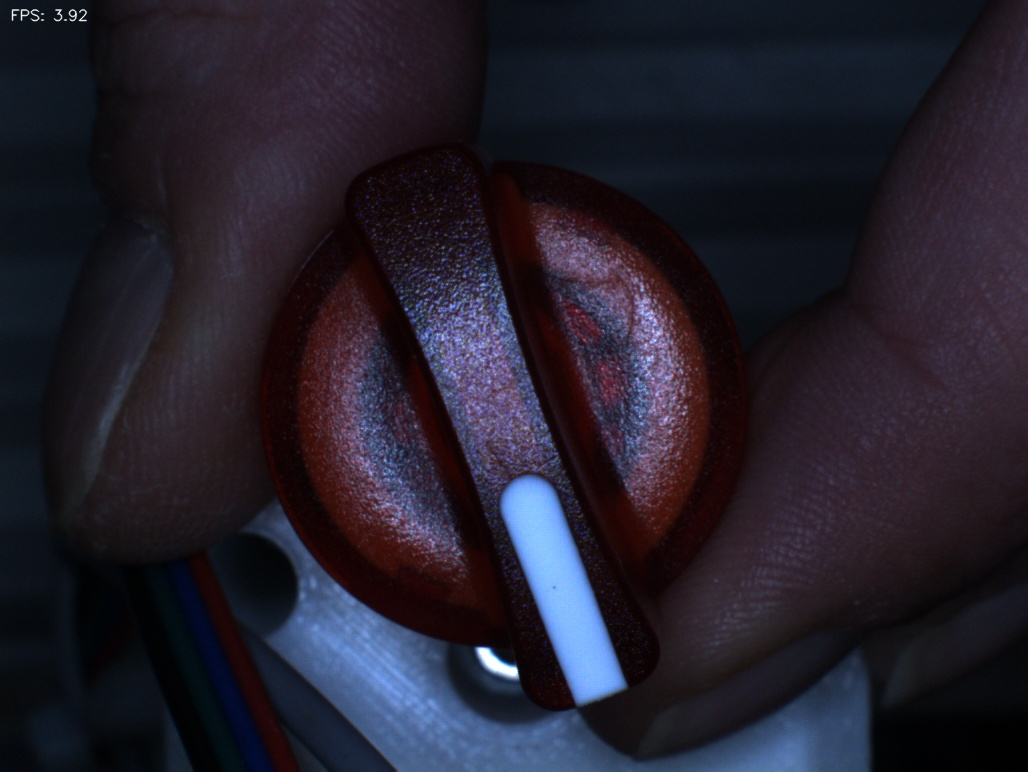PointNoir: (524, 552, 586, 624)
